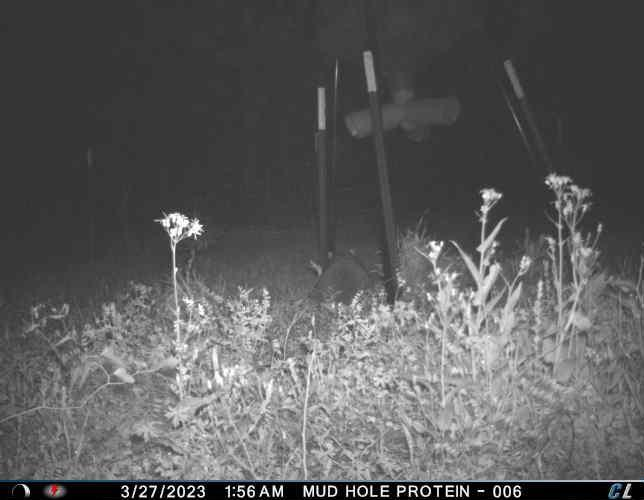Raccoon: (314, 249, 377, 307)
